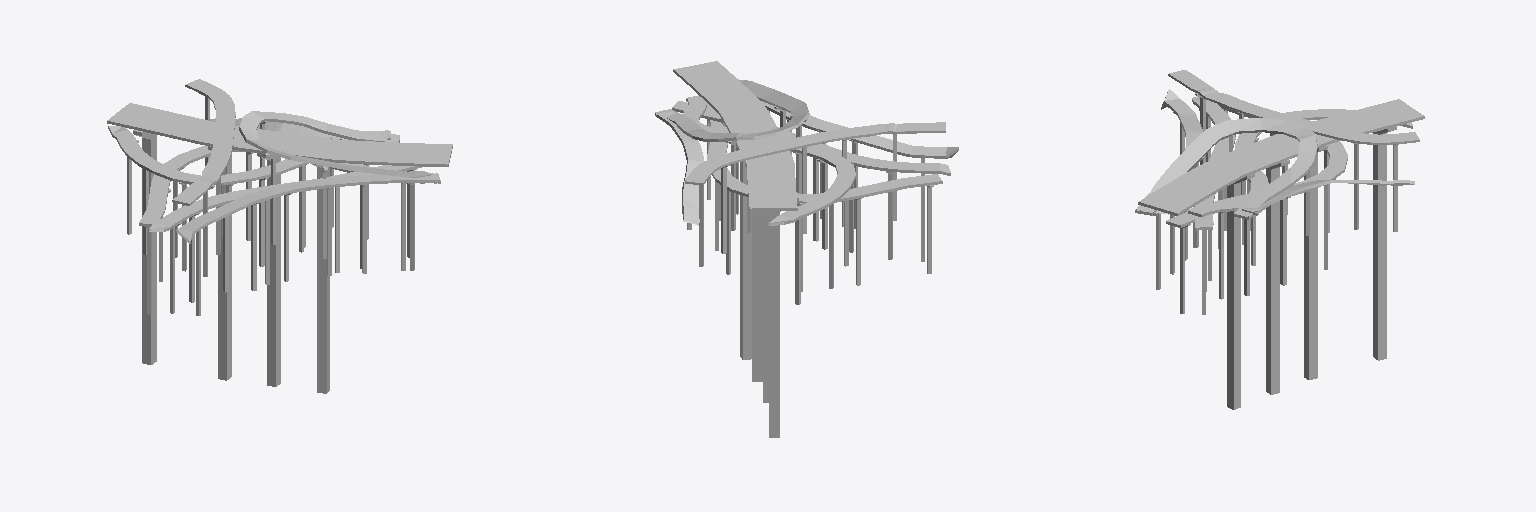
Rendered from highwayMesh.obj.
3 renders of one model, left to right at view 1: azimuth 30°, elevation 25°; view 2: azimuth 150°, elevation 25°; view 3: azimuth 270°, elevation 25°, orthographic.
Bounding box in the file's own units: 1301 × 1103 × 1117.